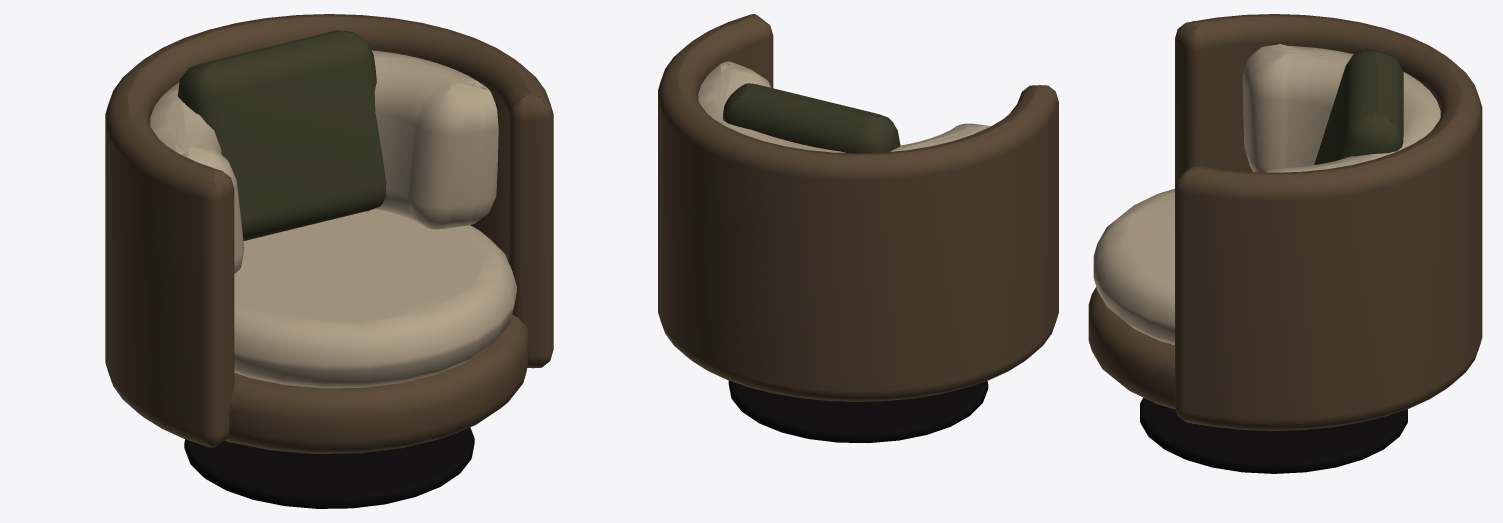
Rendered from swivel-lounge-chair-lod1.glb.
3 renders of one model, left to right at view 1: azimuth 30°, elevation 25°; view 2: azimuth 150°, elevation 25°; view 3: azimuth 270°, elevation 25°, orthographic. The views are drawn at different scales.
Parts seen in each view (by area): view 1: Woven taupe rope, Oatmeal performance fabric, Olive accent pillow, Powder-coated bronze aluminium; view 2: Woven taupe rope, Powder-coated bronze aluminium, Olive accent pillow, Oatmeal performance fabric; view 3: Woven taupe rope, Oatmeal performance fabric, Powder-coated bronze aluminium, Olive accent pillow.
Boxes of the visible parts, box(x1,y1,x2,y2) form: Woven taupe rope: box(105, 14, 553, 453); Oatmeal performance fabric: box(150, 50, 516, 388); Olive accent pillow: box(177, 30, 386, 240); Powder-coated bronze aluminium: box(184, 427, 474, 508); Woven taupe rope: box(658, 14, 1058, 401); Powder-coated bronze aluminium: box(728, 380, 988, 443); Olive accent pillow: box(723, 83, 900, 153); Oatmeal performance fabric: box(698, 61, 991, 152); Woven taupe rope: box(1088, 14, 1482, 430); Oatmeal performance fabric: box(1093, 44, 1440, 345); Powder-coated bronze aluminium: box(1140, 397, 1407, 473); Olive accent pillow: box(1314, 49, 1403, 164).
Bounding box in the file's own units: 0.8875 × 0.7666 × 0.8298.
